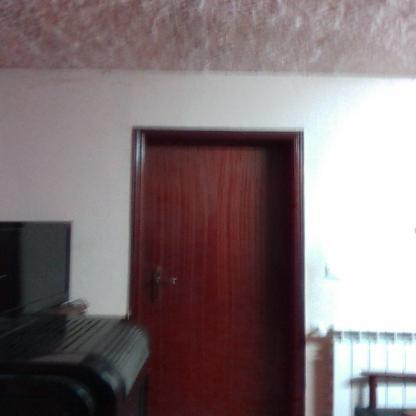door: (144, 142, 292, 415)
lever: (154, 276, 182, 286)
